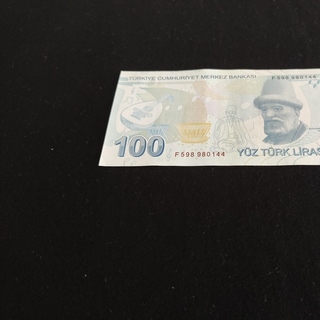100TLBack: (97, 66, 320, 167)
